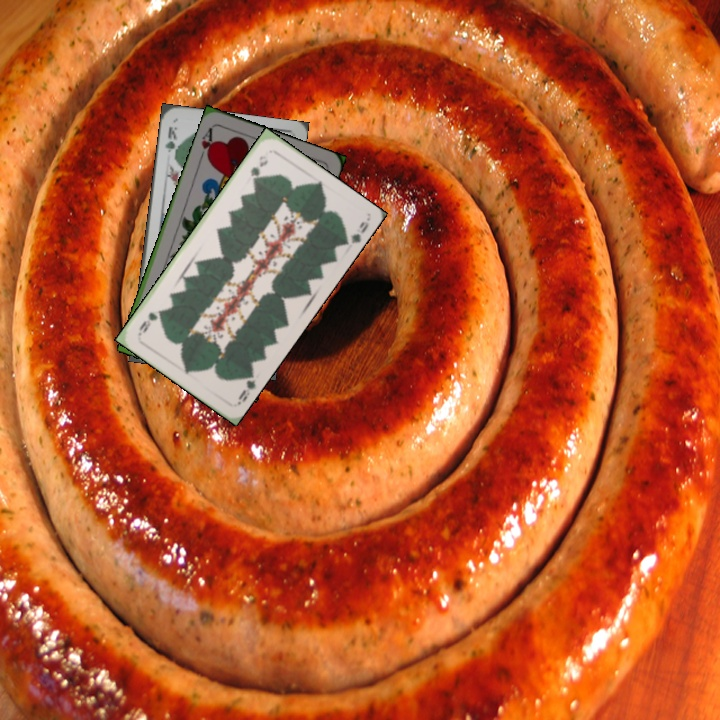G9: (233, 368, 258, 407), (246, 151, 270, 184)
GK: (161, 122, 180, 161)
HA: (195, 123, 218, 163)
